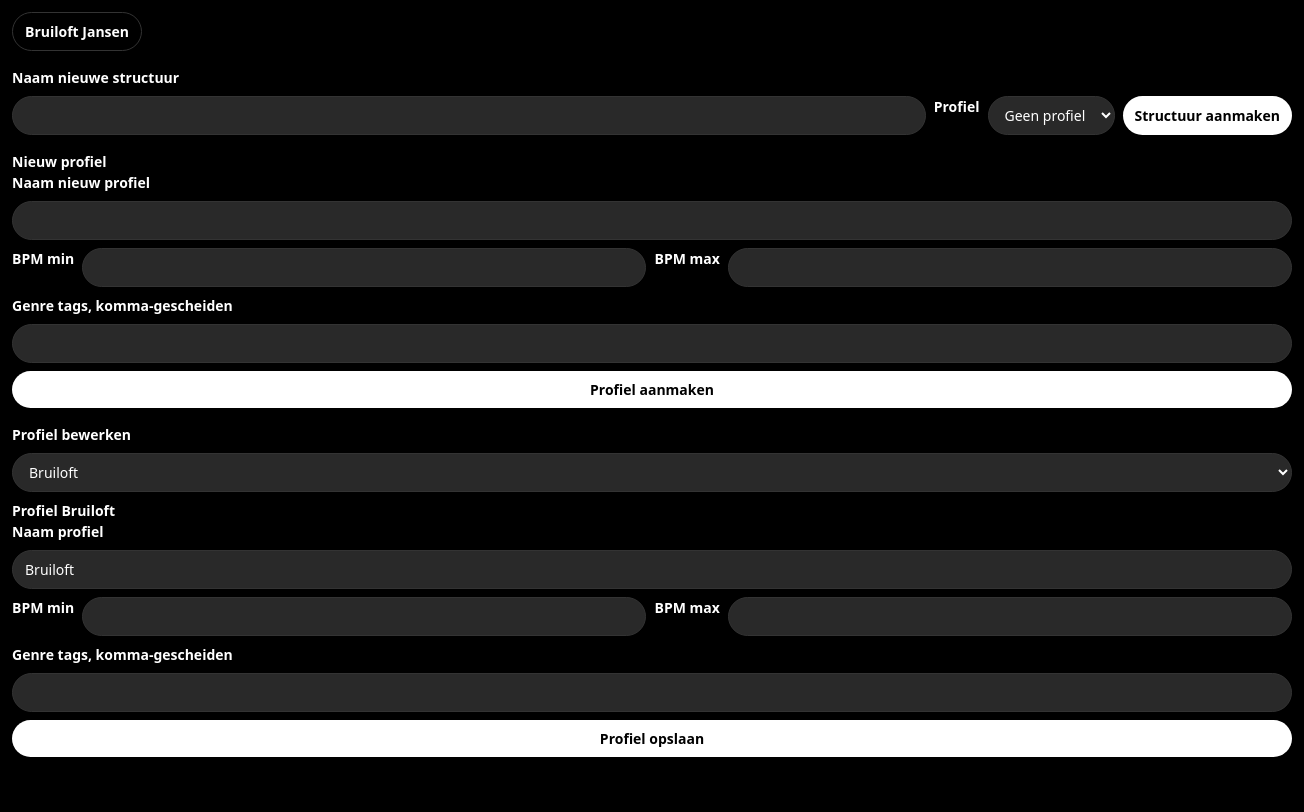
Scenario: BookingWorkspace › shows a naming error when creating a structure without a name
Check: the button "Bruiloft Jansen" is shown, box [12, 12, 142, 51]
Click the button "Structuur aanmaken" at point(1207, 116), box [1122, 96, 1292, 135]
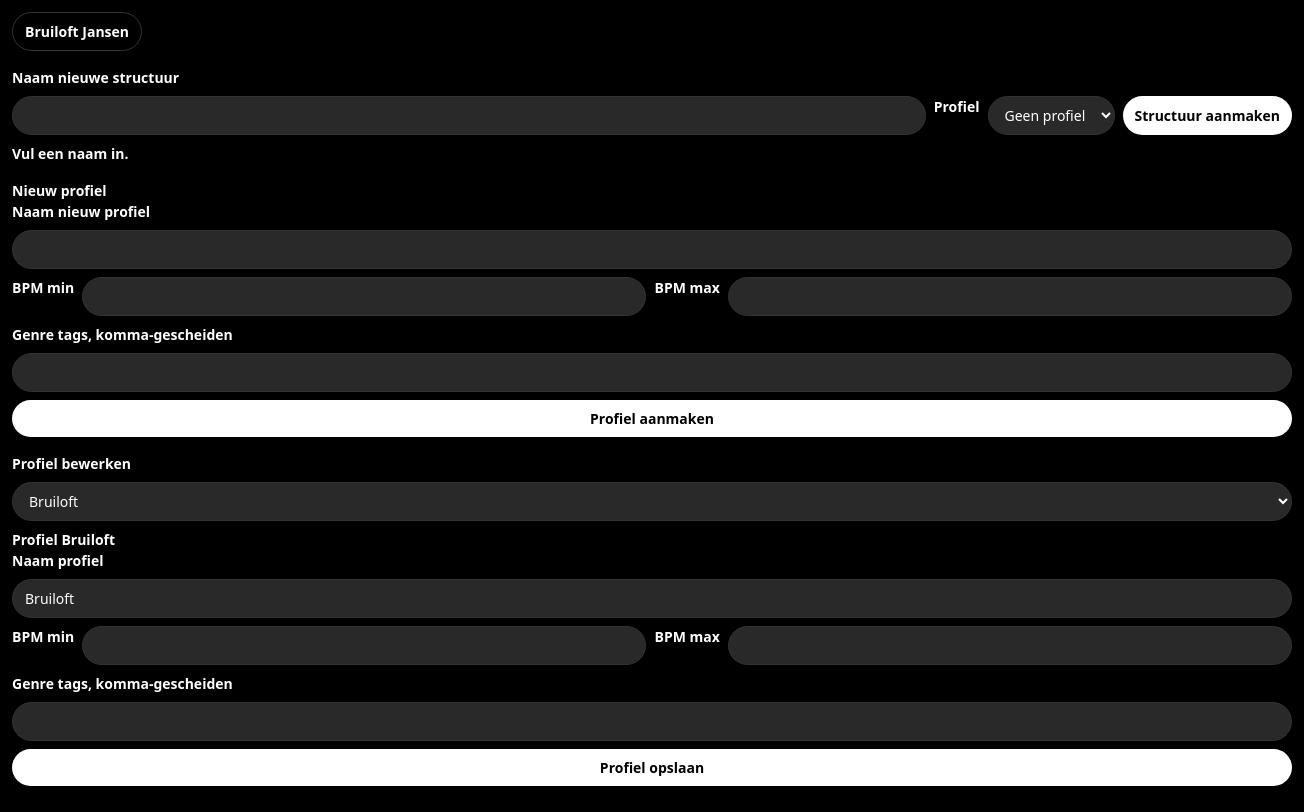
Check: the text "Vul een naam in." is shown, box [12, 144, 128, 163]
